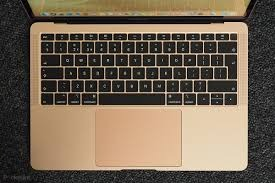keyboard: (37, 29, 243, 108)
